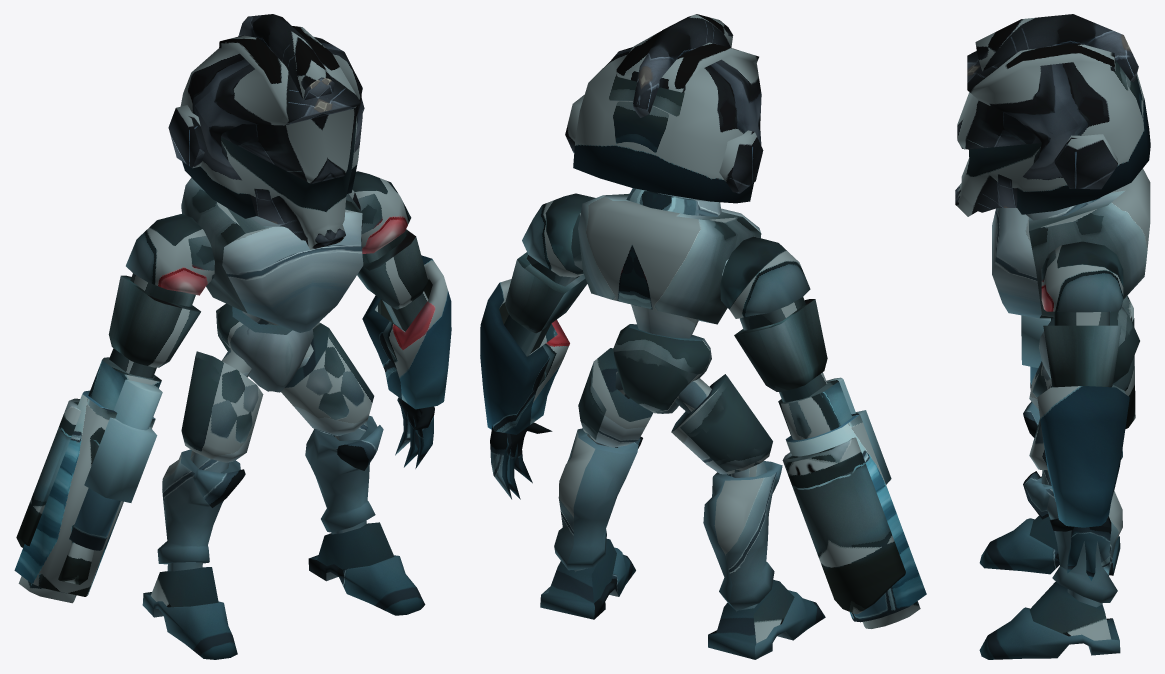
The model's file is PK_model_monster_2.FBX.
The picture shows the model from 3 angles, left to right: view 1: azimuth 30°, elevation 25°; view 2: azimuth 150°, elevation 25°; view 3: azimuth 270°, elevation 25°; orthographic projection.
Parts seen in each view (by area): view 1: PK_model_monster_2; view 2: PK_model_monster_2; view 3: PK_model_monster_2.
Boxes of the visible parts, <box> form: PK_model_monster_2: <box>14,14,451,659</box>; PK_model_monster_2: <box>480,14,926,659</box>; PK_model_monster_2: <box>955,14,1150,659</box>.
Bounding box in the file's own units: 141 × 187 × 55.82.
